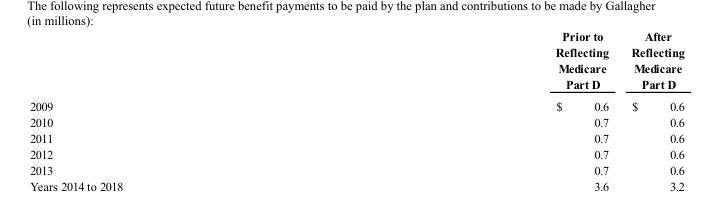table: (29, 28, 683, 192)
table column: (29, 28, 338, 192), (338, 28, 619, 192), (619, 28, 683, 192)
table column header: (29, 28, 683, 94)
table row: (29, 28, 683, 94), (29, 94, 683, 113), (29, 113, 683, 129), (29, 129, 683, 145), (29, 145, 683, 161), (29, 161, 683, 177), (29, 177, 683, 192)
